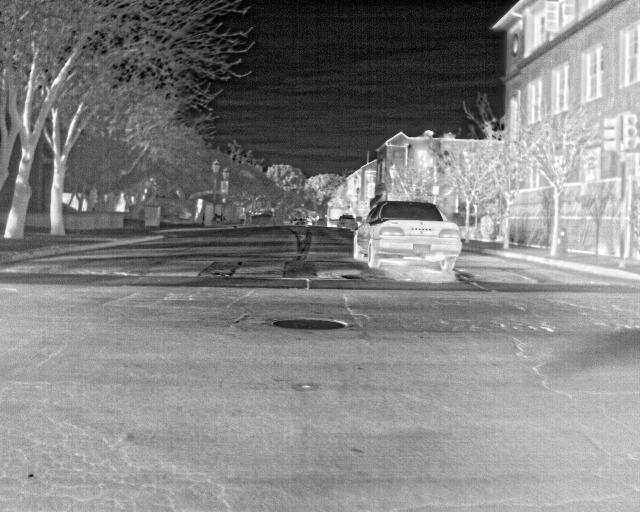car: (353, 200, 462, 269), (337, 215, 356, 229)
light: (623, 114, 639, 150), (603, 117, 618, 153)
sign: (145, 206, 160, 225), (220, 181, 228, 195), (433, 186, 439, 195)
